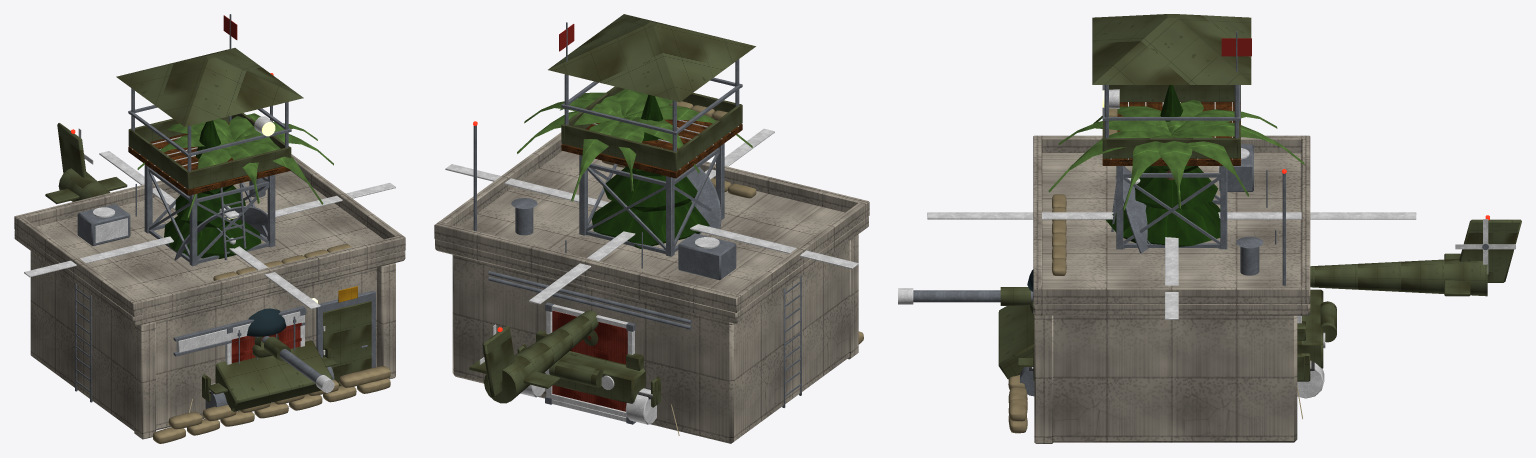
Rendered from props.glb.
The picture shows the model from 3 angles, left to right: view 1: azimuth 30°, elevation 25°; view 2: azimuth 150°, elevation 25°; view 3: azimuth 270°, elevation 25°; orthographic projection. The views are drawn at different scales.
Visible parts, largest first — view 1: bunker_concrete, tower_olive, tower_steel, tank_olive, bunker_fabric, bunker_steel, palm_leaf, pine_pineleaf, rotor_dark, door, heli_olive, bunker_dark (+5 smaller); view 2: bunker_concrete, tower_olive, tower_steel, bunker_steel, pine_pineleaf, heli_olive, palm_leaf, rotor_dark, tank_olive, container_r_cont_red, deck, container_r_dark (+3 smaller); view 3: bunker_concrete, tower_olive, heli_olive, palm_leaf, pine_pineleaf, tank_olive, tower_steel, rotor_dark, bunker_steel, bunker_fabric, tank_steel, deck (+2 smaller).
Part boxes in pixels (bbox=[...]): bunker_concrete: bbox=[14, 154, 405, 439]; tower_olive: bbox=[116, 48, 303, 189]; tower_steel: bbox=[128, 14, 291, 266]; tank_olive: bbox=[202, 336, 337, 411]; bunker_fabric: bbox=[152, 244, 390, 443]; bunker_steel: bbox=[75, 105, 375, 402]; palm_leaf: bbox=[137, 113, 333, 217]; pine_pineleaf: bbox=[164, 120, 261, 258]; rotor_dark: bbox=[24, 151, 395, 308]; door: bbox=[323, 301, 371, 386]; heli_olive: bbox=[45, 123, 278, 357]; bunker_dark: bbox=[93, 207, 325, 354]; bunker_concrete: bbox=[434, 132, 869, 443]; tower_olive: bbox=[548, 14, 755, 171]; tower_steel: bbox=[561, 22, 742, 256]; bunker_steel: bbox=[473, 125, 801, 407]; pine_pineleaf: bbox=[591, 94, 709, 248]; heli_olive: bbox=[469, 310, 598, 403]; palm_leaf: bbox=[517, 89, 752, 201]; rotor_dark: bbox=[445, 128, 858, 304]; tank_olive: bbox=[517, 330, 660, 407]; container_r_cont_red: bbox=[552, 310, 627, 411]; deck: bbox=[561, 117, 742, 178]; container_r_dark: bbox=[546, 304, 634, 421]; bunker_concrete: bbox=[1033, 135, 1310, 443]; tower_olive: bbox=[1092, 14, 1251, 158]; heli_olive: bbox=[1030, 219, 1521, 315]; palm_leaf: bbox=[1048, 99, 1304, 210]; pine_pineleaf: bbox=[1106, 85, 1220, 246]; tank_olive: bbox=[998, 287, 1336, 381]; tower_steel: bbox=[1102, 31, 1240, 249]; rotor_dark: bbox=[927, 212, 1416, 319]; bunker_steel: bbox=[1219, 144, 1285, 285]; bunker_fabric: bbox=[1008, 194, 1066, 433]; tank_steel: bbox=[913, 170, 1276, 396]; deck: bbox=[1102, 102, 1240, 165].
Size of the model in its own units: 11.3 by 9.91 by 14.42.
Materials: 40 (23 with a texture image).
